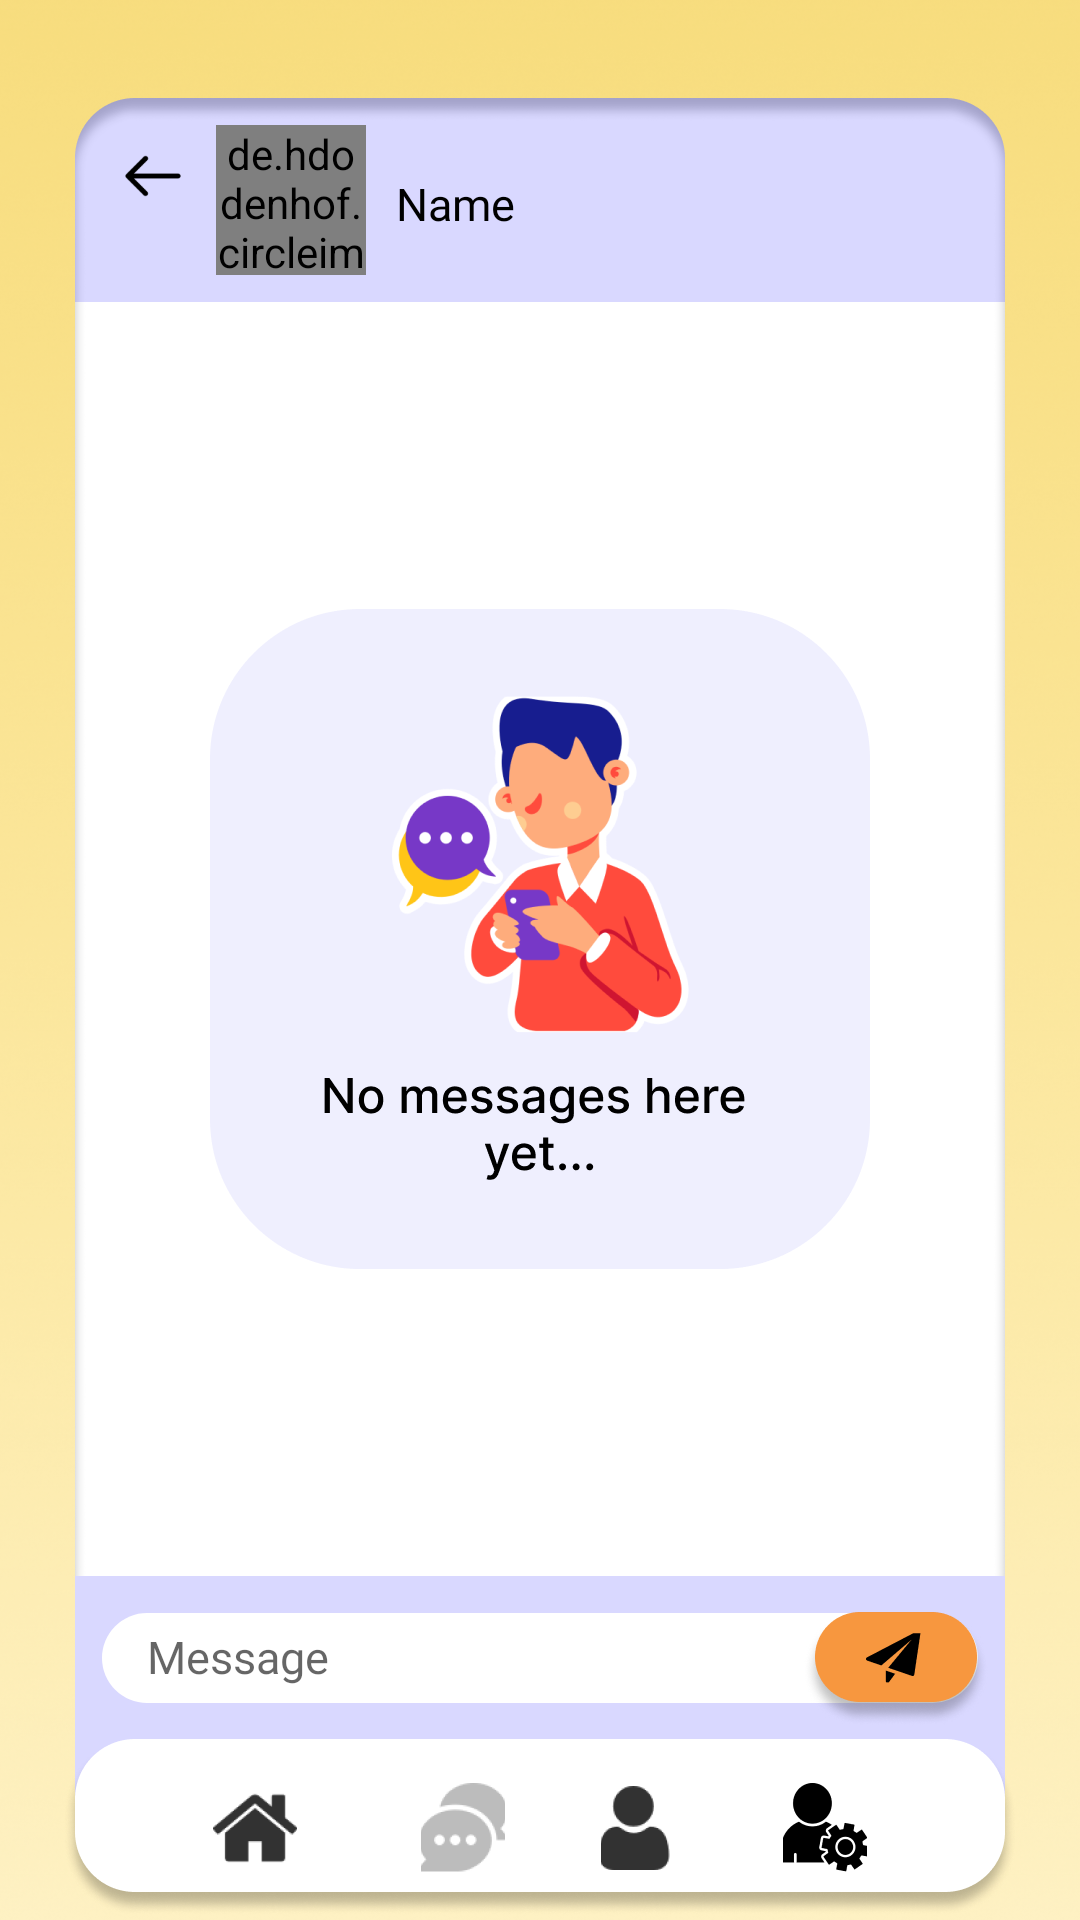

Icons on this 1080x1920 Android screen, each with the point to tap as [x,y]:
chaticon: [463,1827]
homeicon: [255,1828]
send: [890,1664]
user: [635,1828]
userset: [825,1827]
